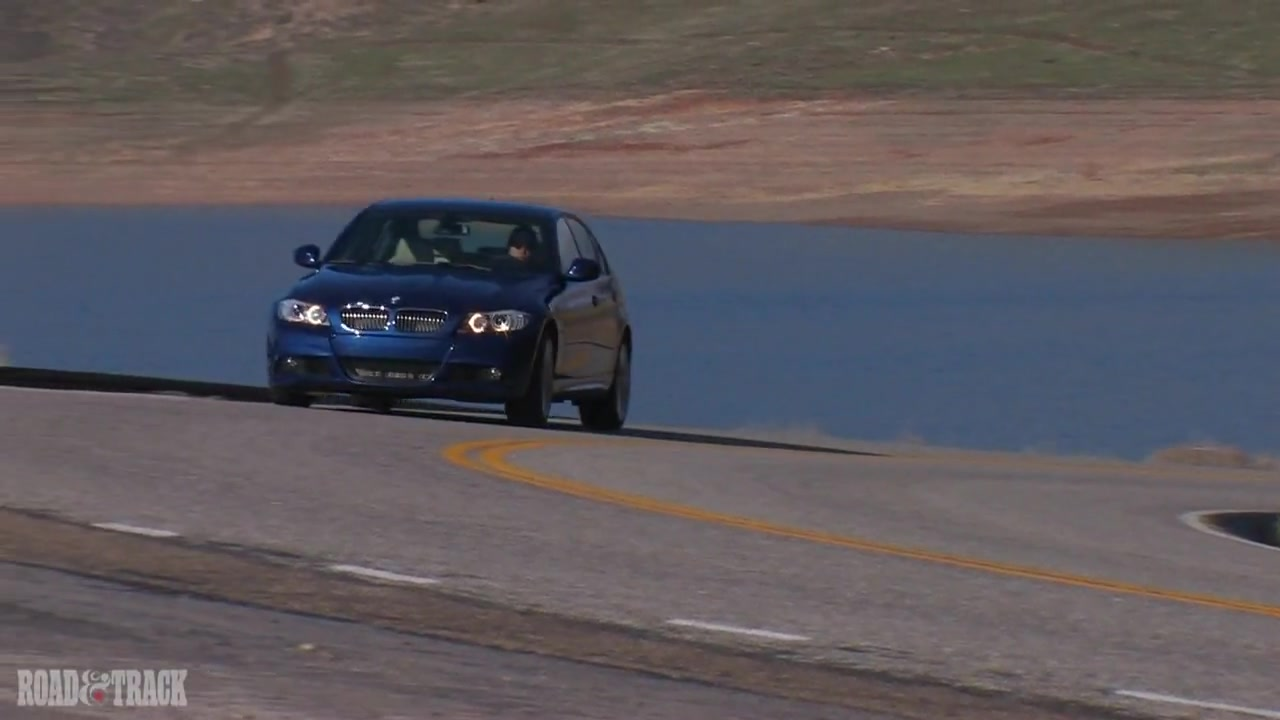car: (263, 196, 634, 431)
